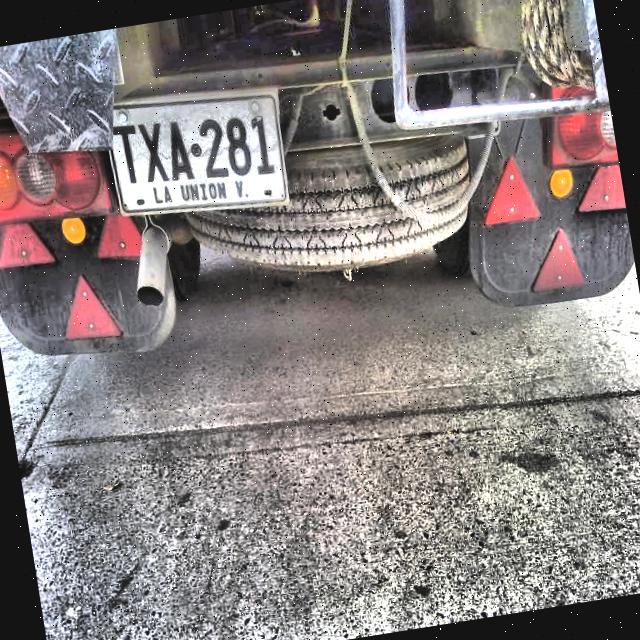1: (246, 113, 280, 177)
2: (197, 114, 232, 181)
8: (223, 116, 256, 177)
A: (164, 118, 199, 182)
T: (110, 123, 142, 186)
X: (136, 120, 172, 185)
